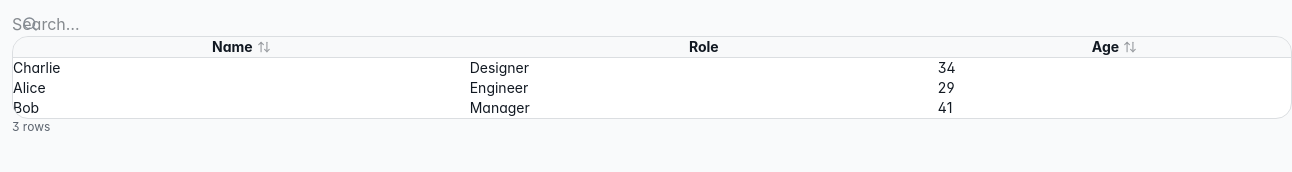
Test: DataTable › filters rows with the global search
Step 1. Type "engineer" into the field named "Search table" → (136, 24), box [12,12,260,36]
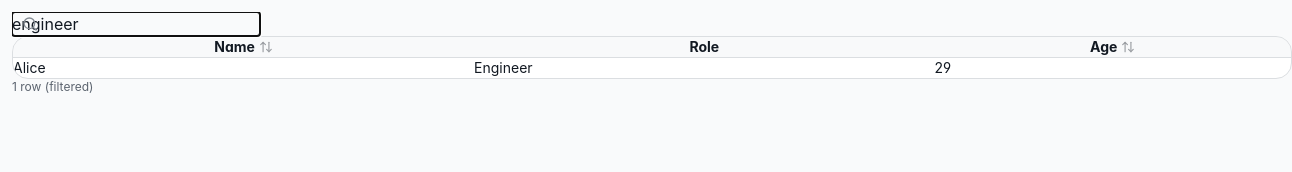
Now the text "Alice" is shown, box [13,58,474,78]
Now the text "Bob" is gone
